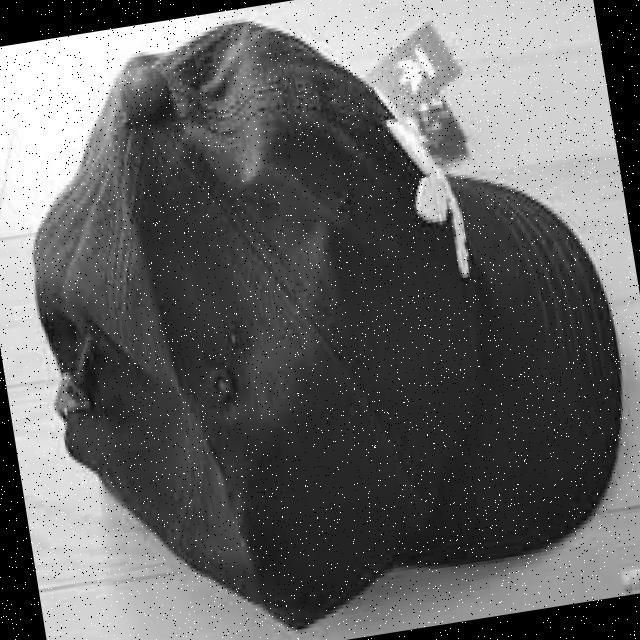Adidas: (386, 36, 438, 108)
